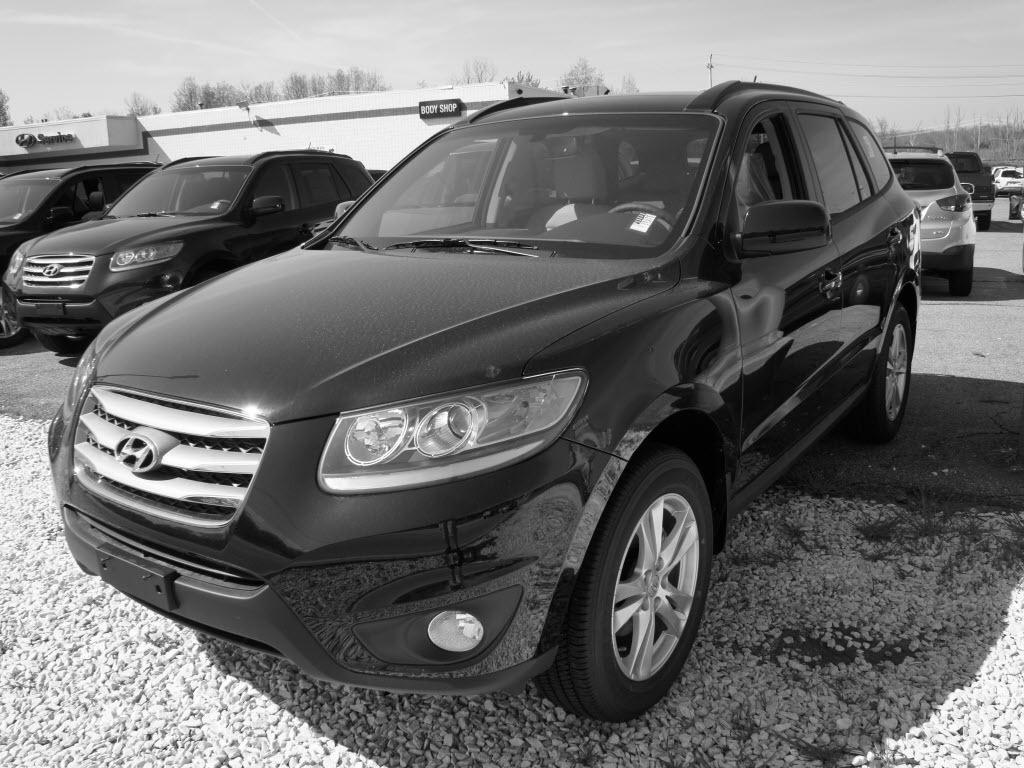car: (24, 43, 946, 744)
